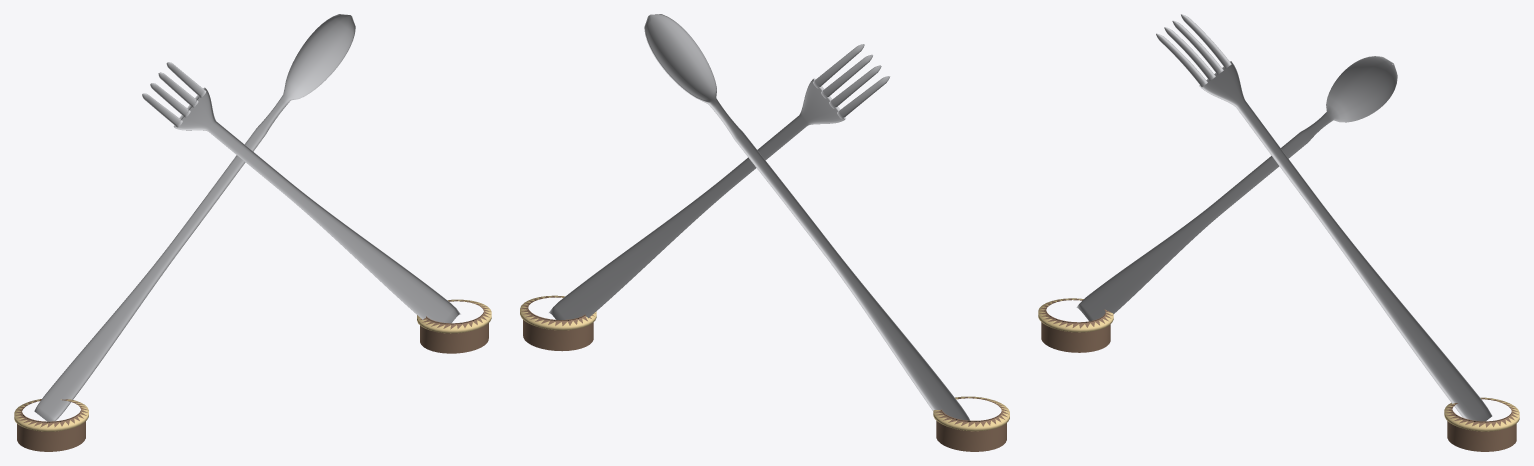
Rendered from kr_arch2.glb.
3 views of the same model, side by side, from view 1: azimuth 30°, elevation 25°; view 2: azimuth 150°, elevation 25°; view 3: azimuth 330°, elevation 25° (orthographic). The views are drawn at different scales.
Visible parts, largest first — view 1: kr_arch2; view 2: kr_arch2; view 3: kr_arch2.
Boxes of the visible parts, bbox=[...] form: kr_arch2: bbox=[14, 14, 491, 451]; kr_arch2: bbox=[520, 14, 1009, 451]; kr_arch2: bbox=[1038, 14, 1519, 451].
Size of the model in its own units: 10.72 by 7.71 by 1.37.
